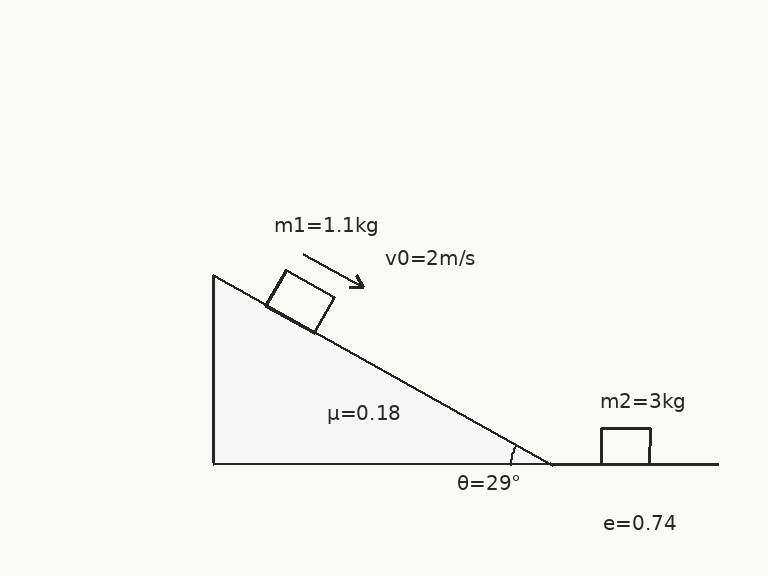block: (263, 268, 336, 335), (599, 426, 651, 466)
ramp: (211, 274, 553, 466)
